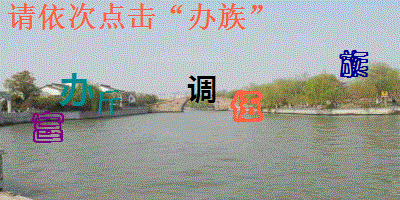result: (187, 2, 249, 32)
text: (30, 108, 67, 146), (58, 71, 94, 108), (229, 88, 265, 125), (337, 47, 371, 80), (186, 71, 218, 106), (96, 87, 122, 115)
